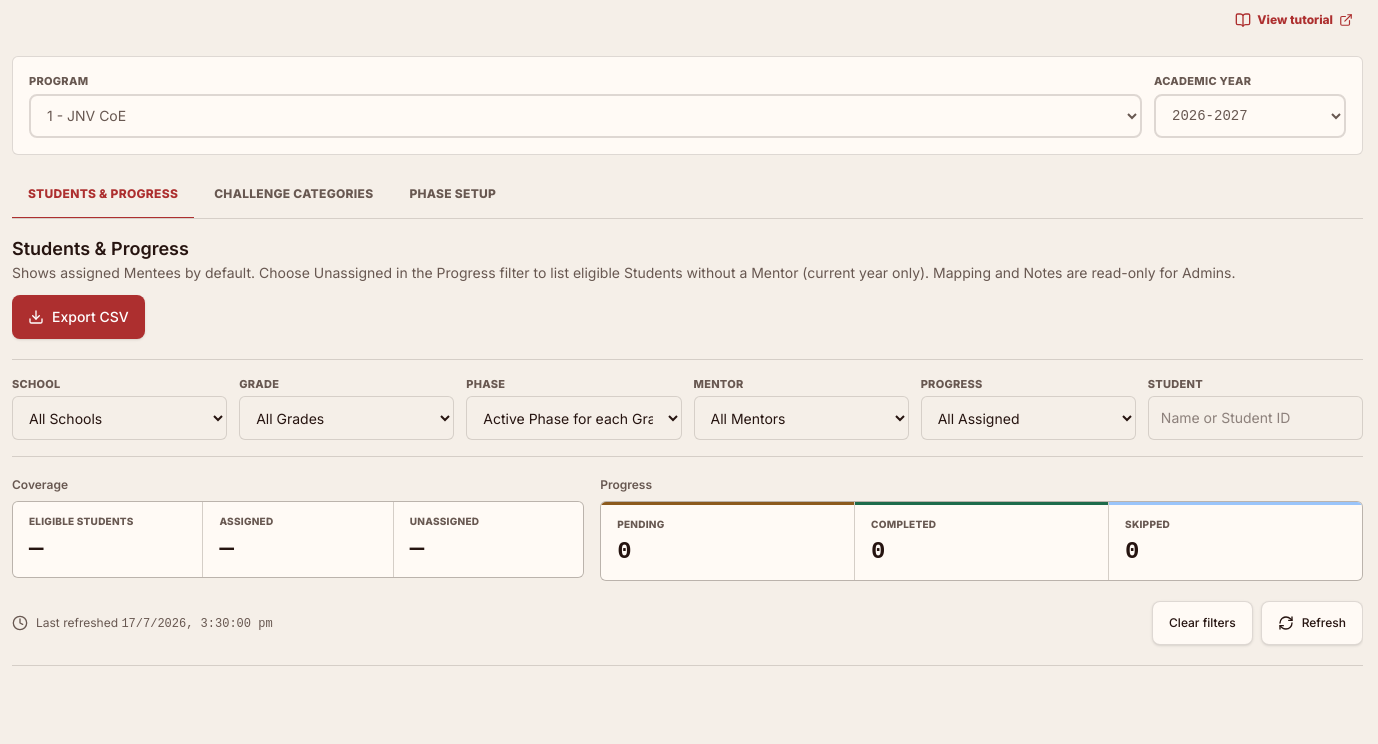
Test case: HolisticMentorshipWorkspace › shows the Program-wide Admin progress and setup workspaces
This screenshot has width=1378, height=744.
Check: the tab "Students & Progress" is shown, box [12,170,194,218]
Click the tab "Phase Setup": x=453, y=194 [393,170,512,218]
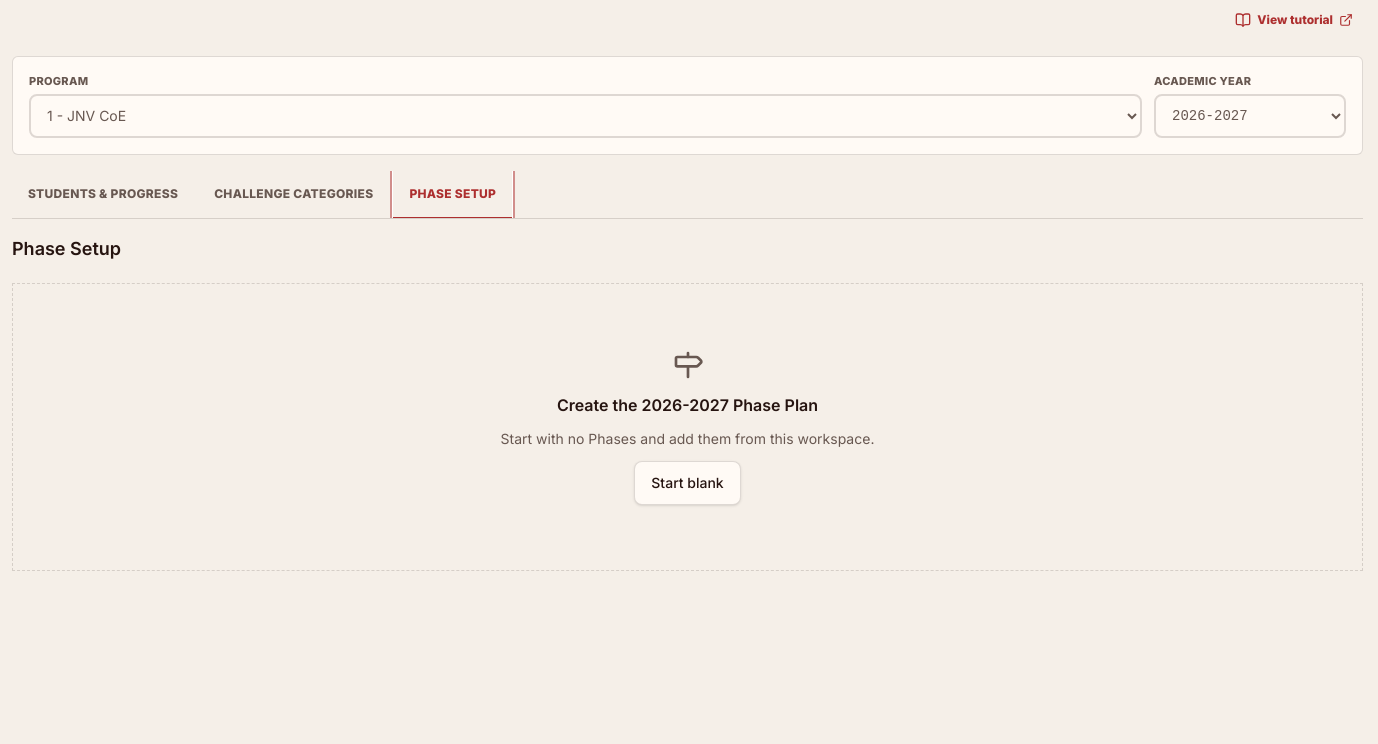
Check: the dropdown labelled "Program" is enabled, box [29,94,1142,138]
Check: the button "Start blank" is shown, box [634,460,741,504]
